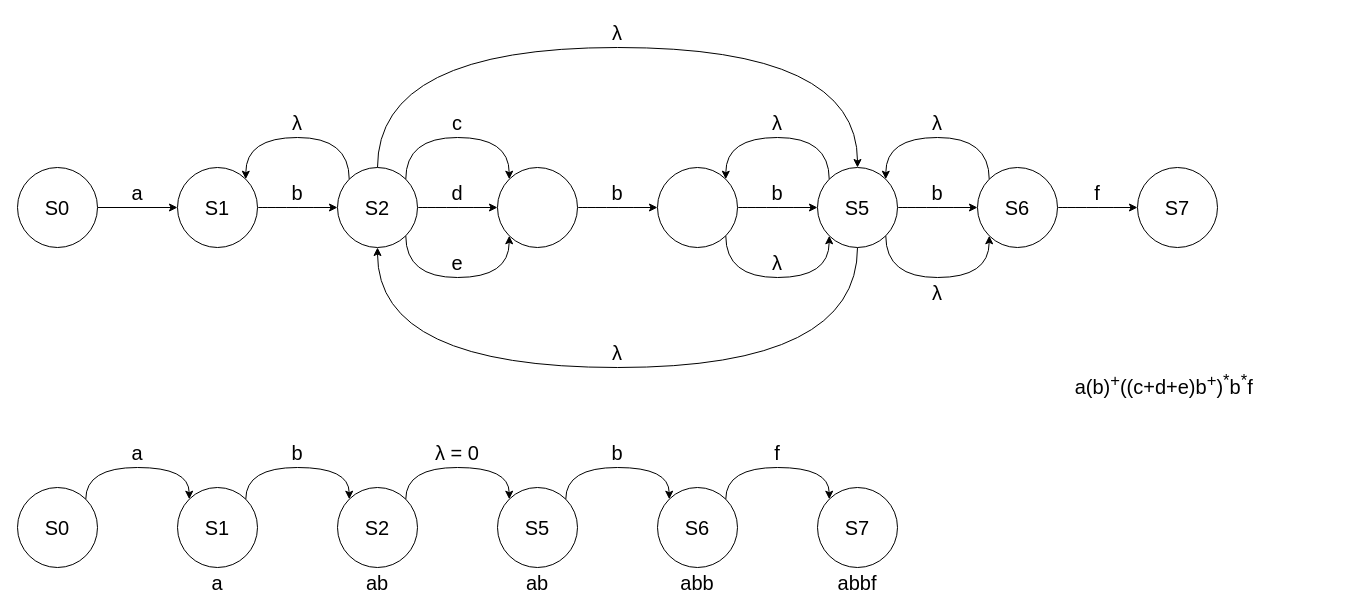
Some shapes in this 1365 by 614 pixel diagram are drawn without their labels. The centre of each missing label's shape, as x and y in pixels:
"S3" goes at point (537, 207).
"S4" goes at point (697, 207).
